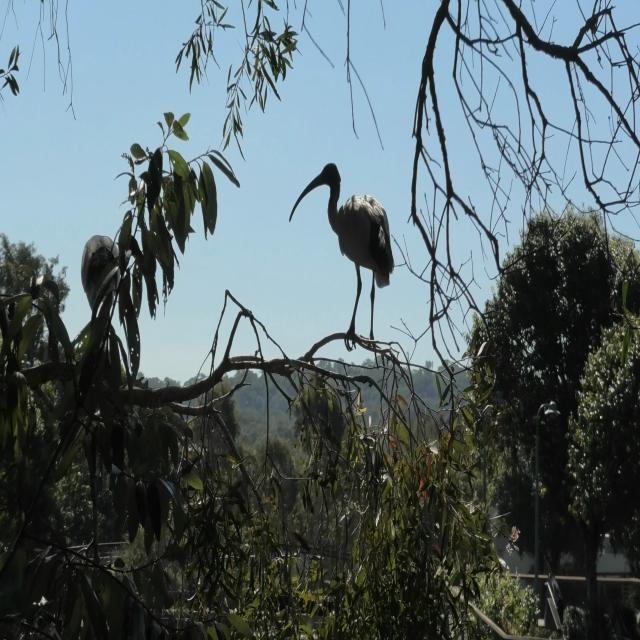Birds-Ibis: (286, 159, 396, 372), (80, 231, 132, 335)
